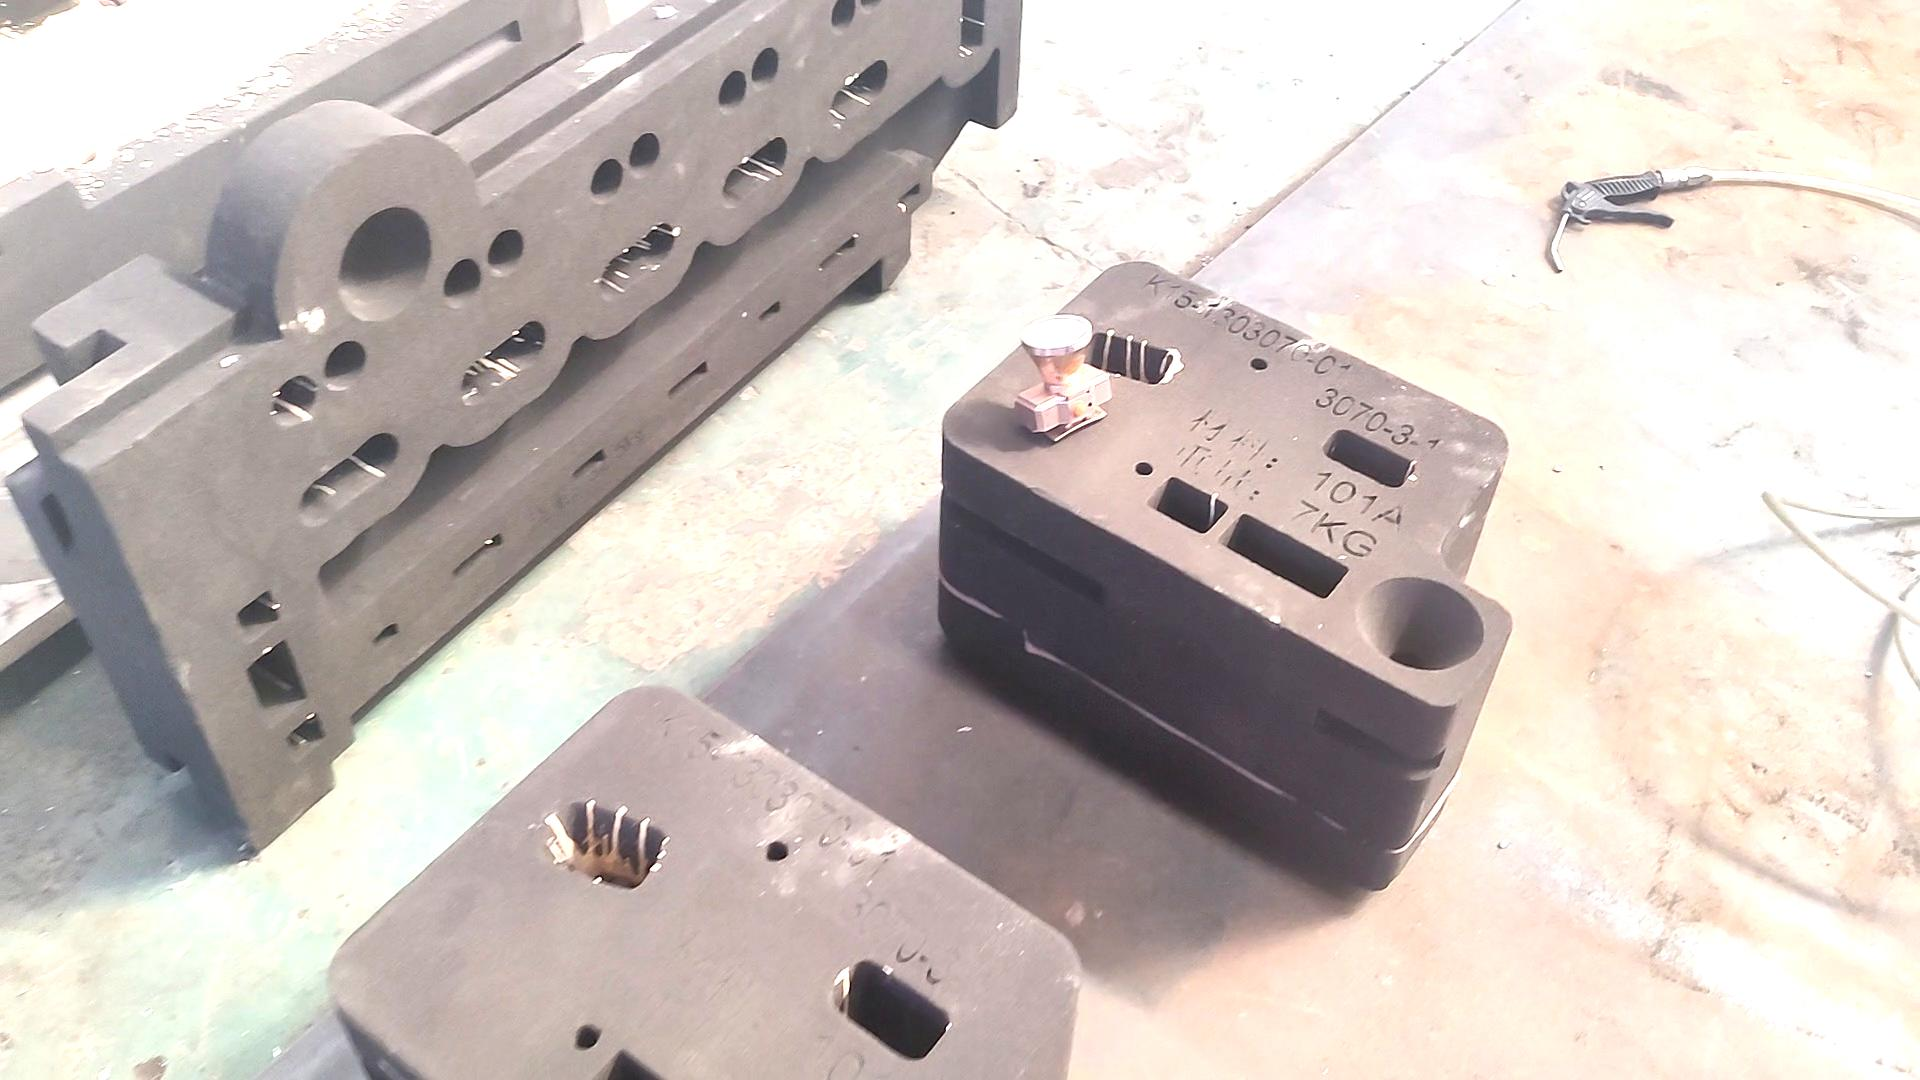pouring hole: (1358, 575, 1484, 671), (339, 204, 433, 320)
